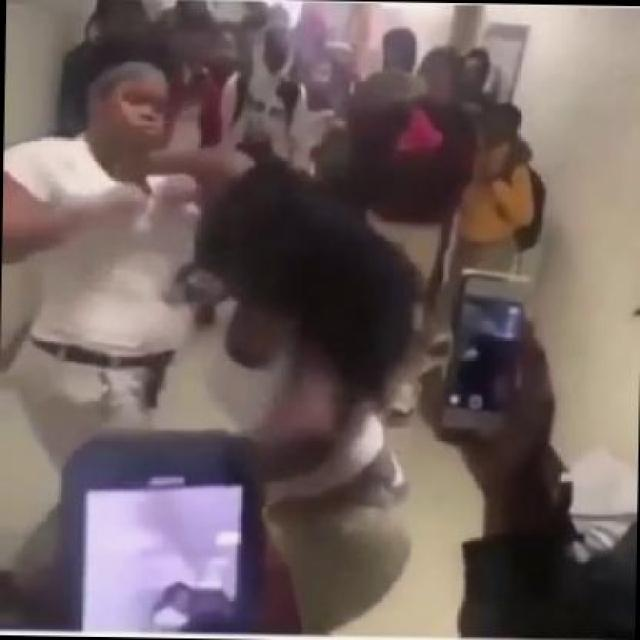fight: (0, 48, 417, 450)
